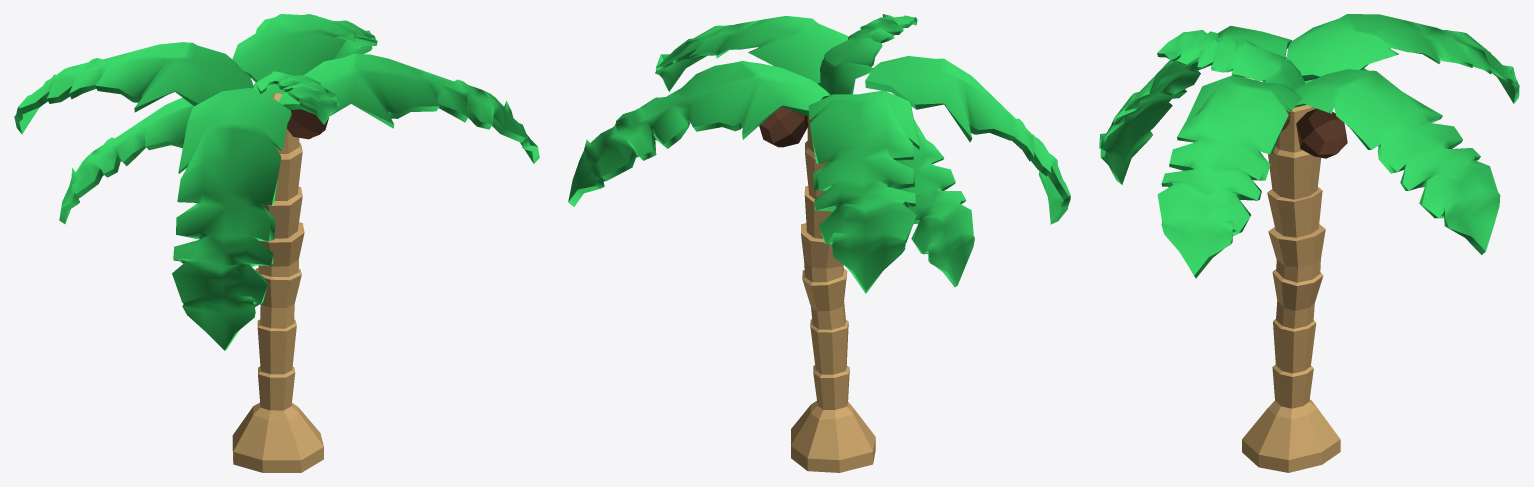
3 views of the same model, side by side, from view 1: azimuth 30°, elevation 25°; view 2: azimuth 150°, elevation 25°; view 3: azimuth 270°, elevation 25° (orthographic).
Parts seen in each view (by area): view 1: Tronco; view 2: Tronco; view 3: Tronco.
Boxes of the visible parts, x1,y1,x2,y2 form: Tronco: [14, 14, 539, 472]; Tronco: [568, 14, 1070, 472]; Tronco: [1099, 14, 1519, 472].
Size of the model in its own units: 254 by 253 by 236.
3 materials, 3 textured.
